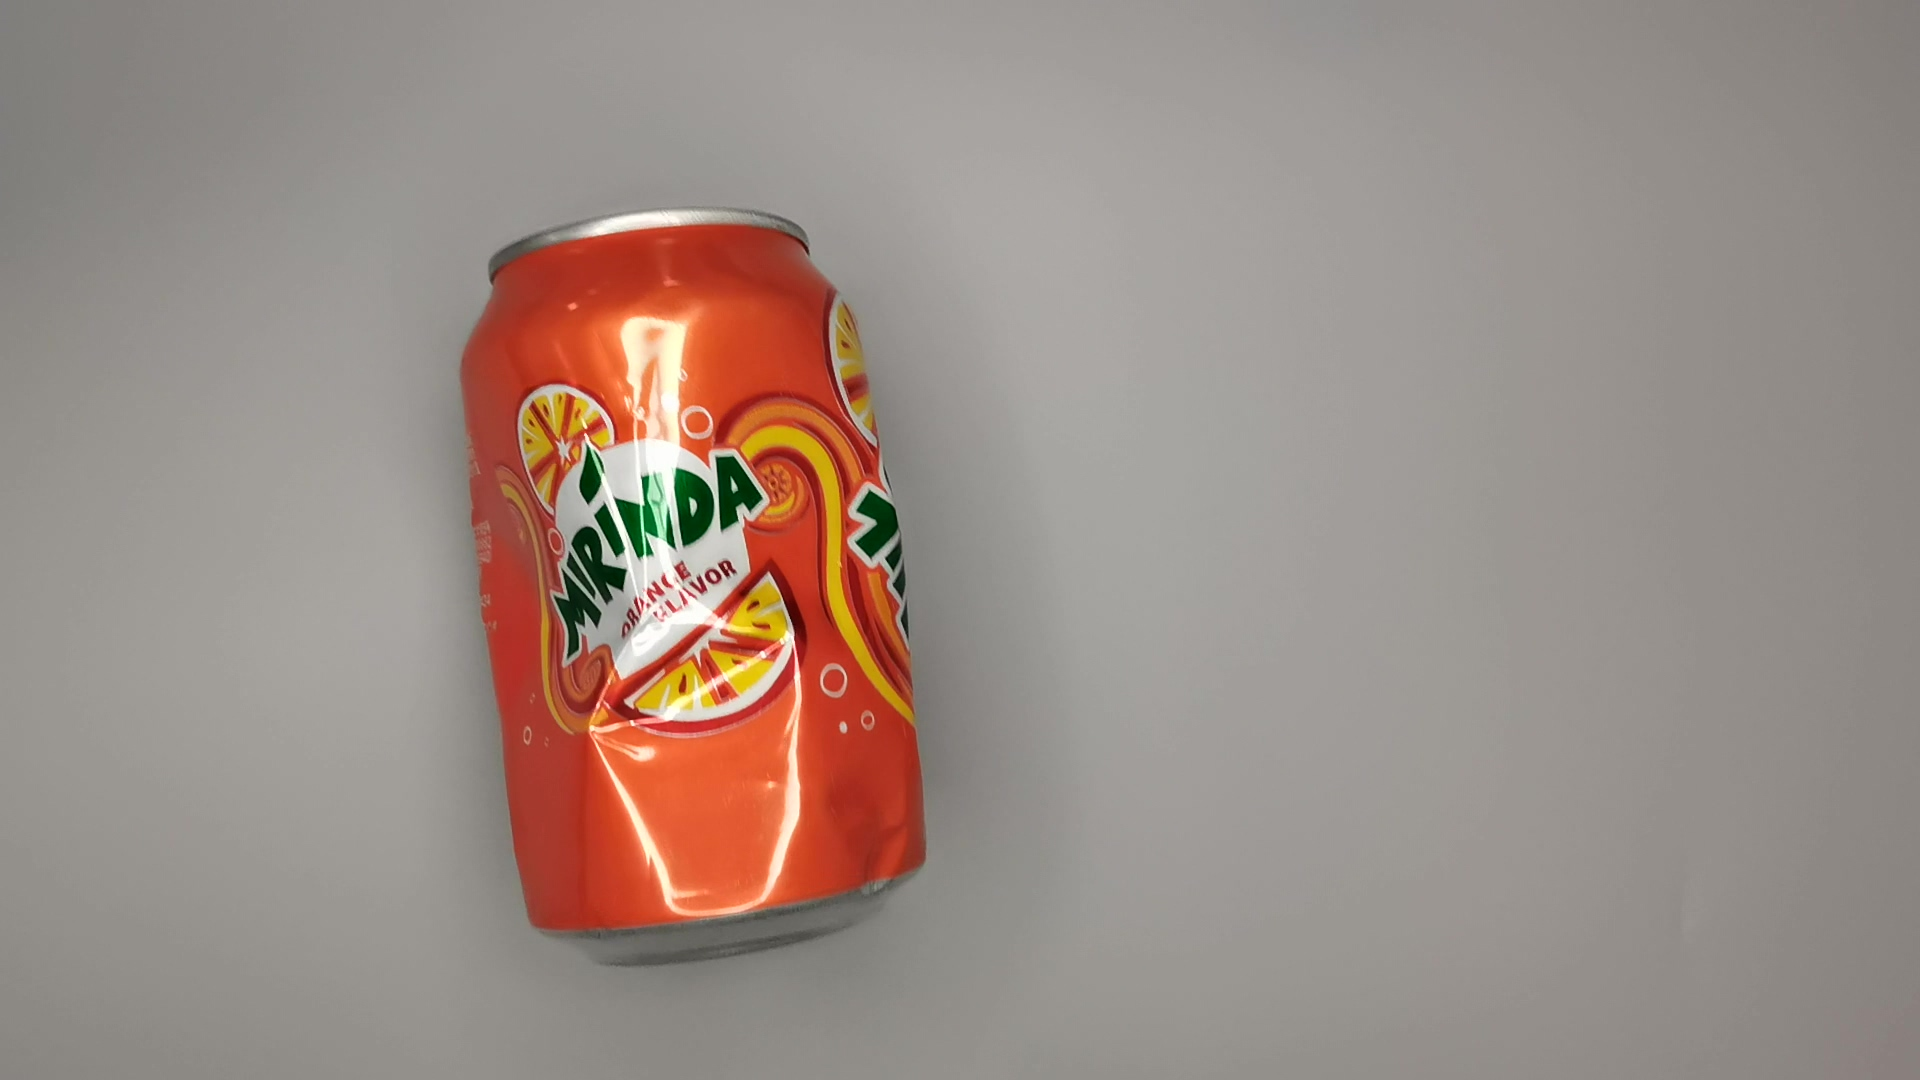can: (440, 190, 930, 971)
